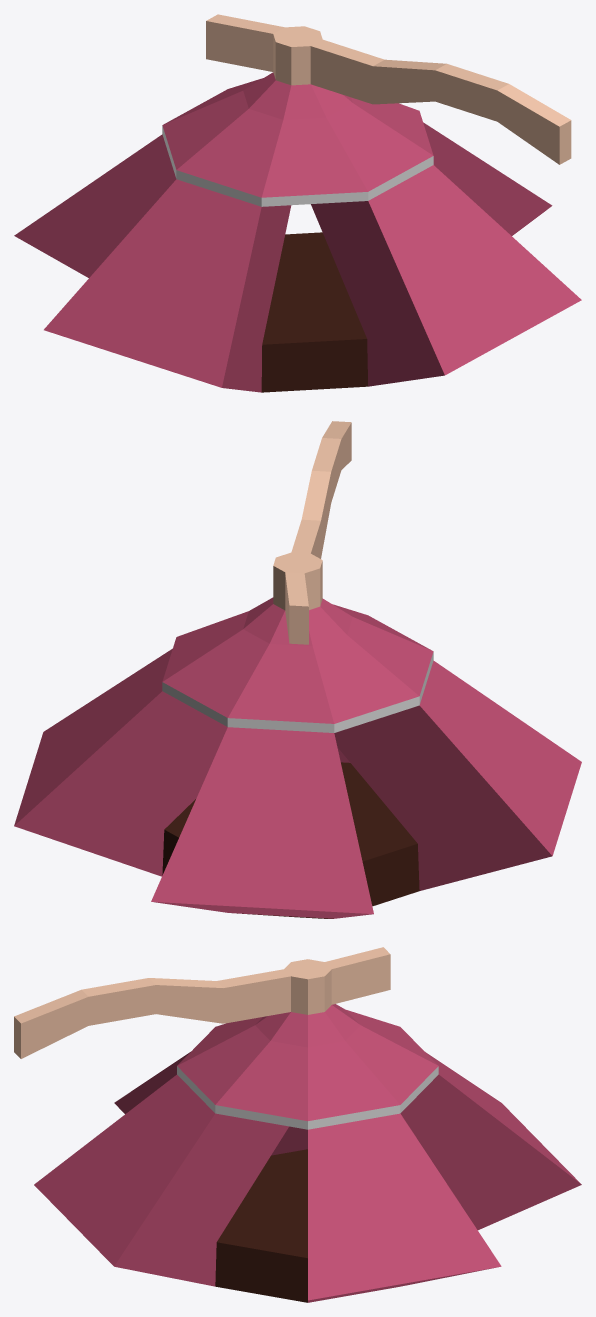
Rendered from fairyhouse3.fbx.
3 views of the same model, one above another, from view 1: azimuth 30°, elevation 25°; view 2: azimuth 150°, elevation 25°; view 3: azimuth 270°, elevation 25° (orthographic). The views are drawn at different scales.
Parts seen in each view (by area): view 1: casa3; view 2: casa3; view 3: casa3.
Boxes of the visible parts, x1,y1,x2,y2 form: casa3: (14, 14, 581, 392); casa3: (14, 421, 581, 918); casa3: (14, 947, 581, 1302).
Bounding box in the file's own units: 576 × 374 × 596.
